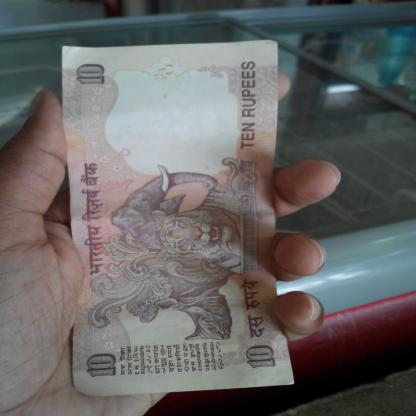Old10Back: (58, 41, 296, 397)
